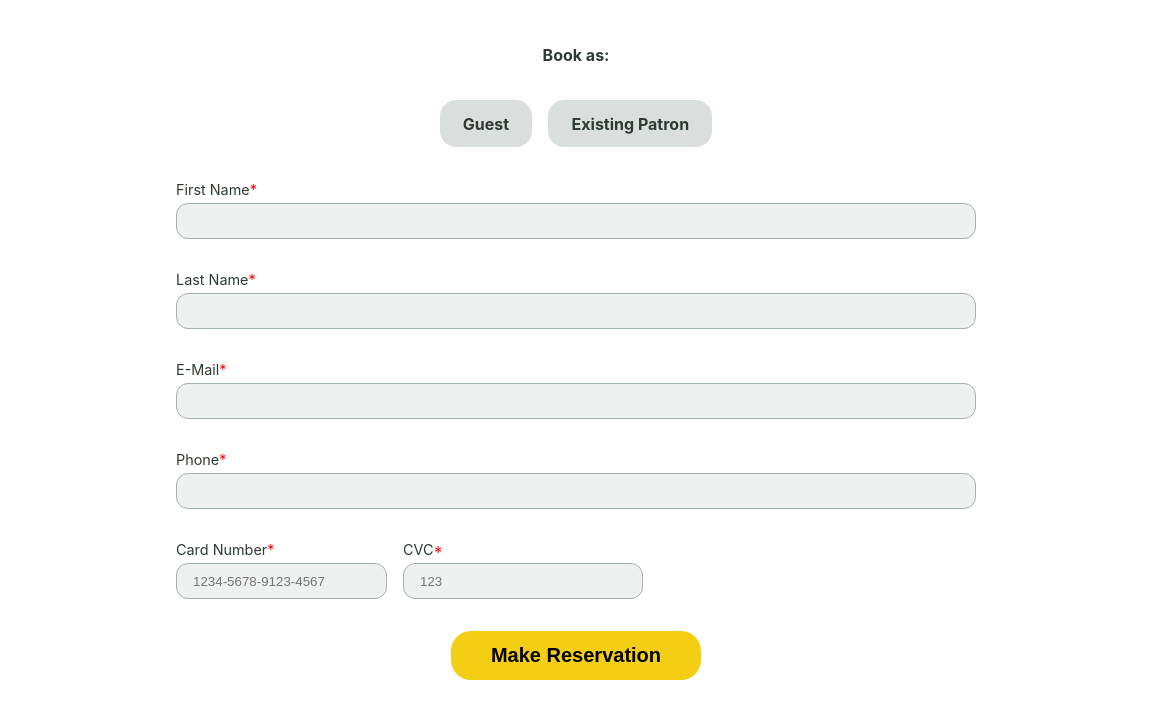
Test case: Shows error when first name empty
The width and height of the screenshot is (1152, 707).
(page scrolled)
Click the button "Make Reservation" at [576, 656], box [451,631,701,680]
(page scrolled)
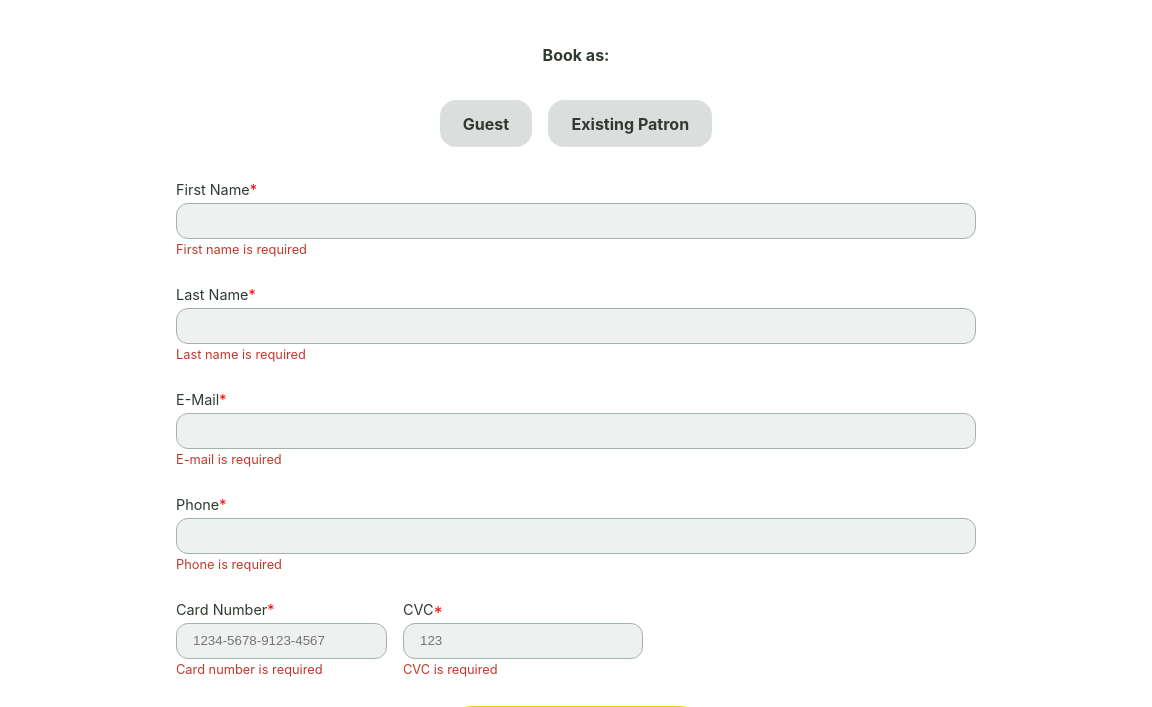
Expected: the text "First name is required" is shown, [176,242,307,257]
